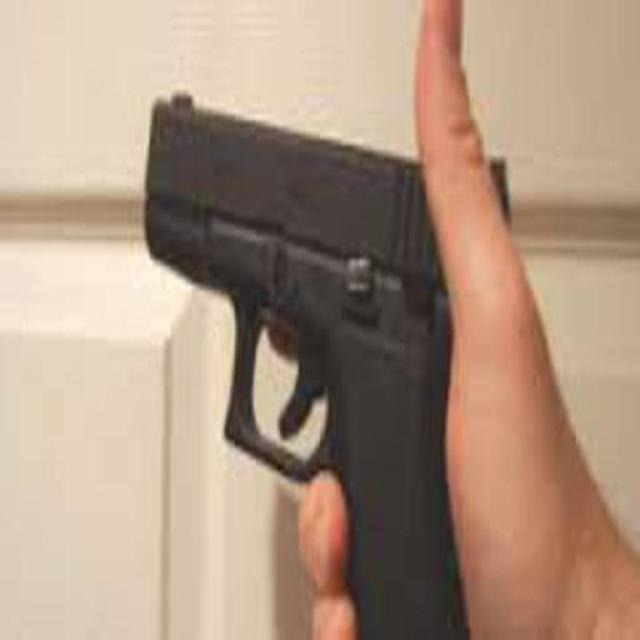pistol: (141, 71, 522, 640)
